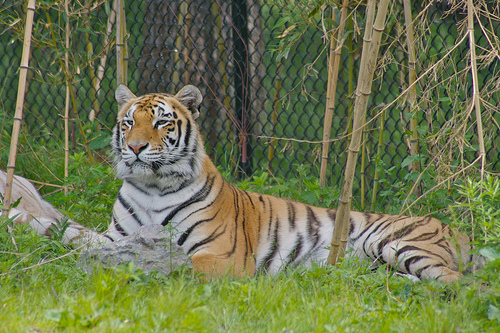Tigre: (97, 75, 470, 302)
